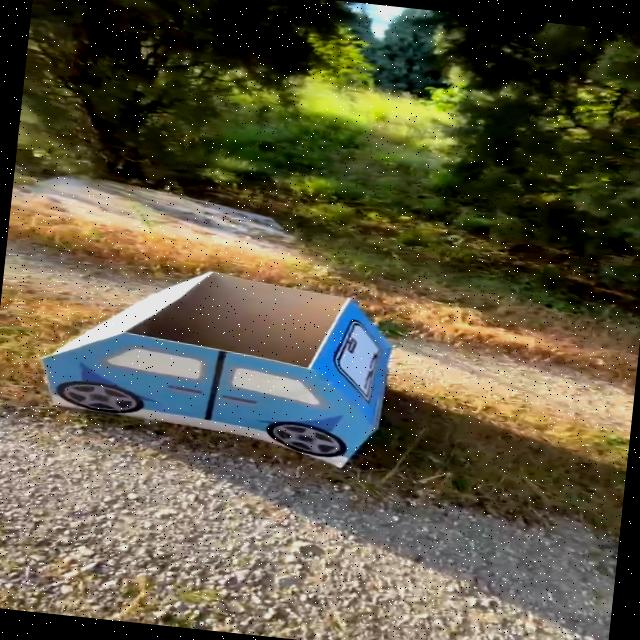blue_car: (0, 233, 414, 484)
